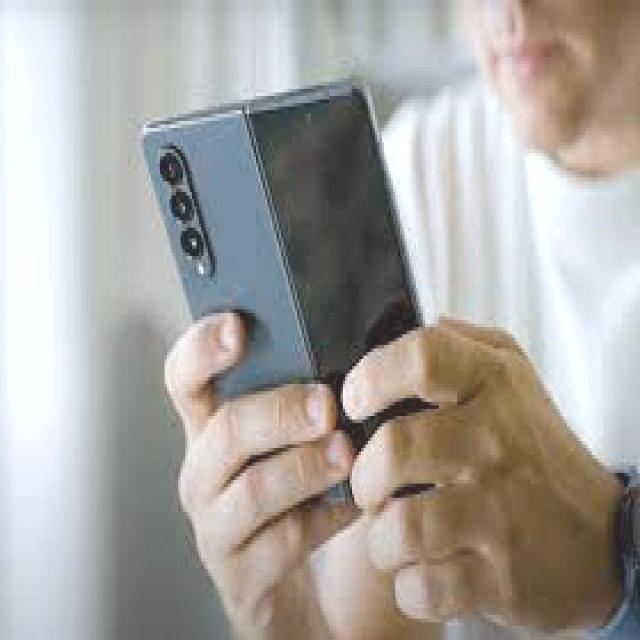lens: (150, 143, 215, 284)
phone: (139, 79, 446, 504)
